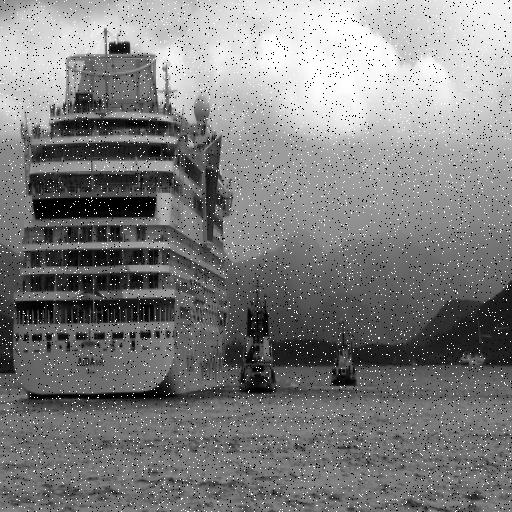cruises: (5, 24, 236, 396)
